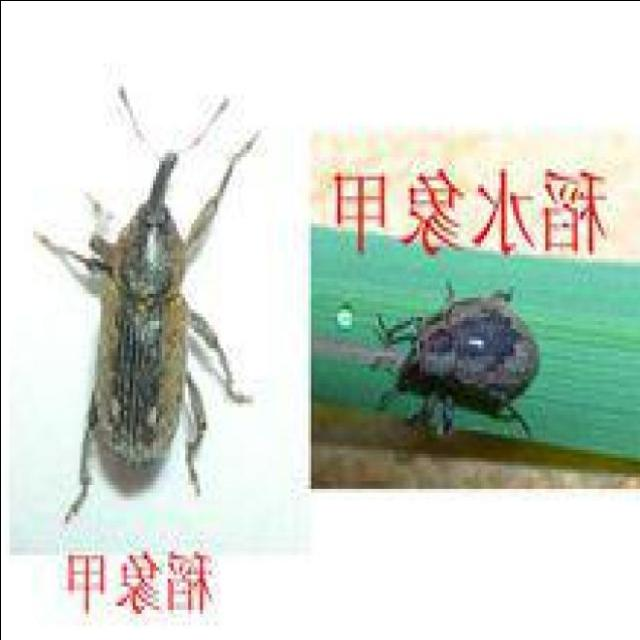ricebug: (34, 78, 258, 522), (370, 282, 539, 434)
